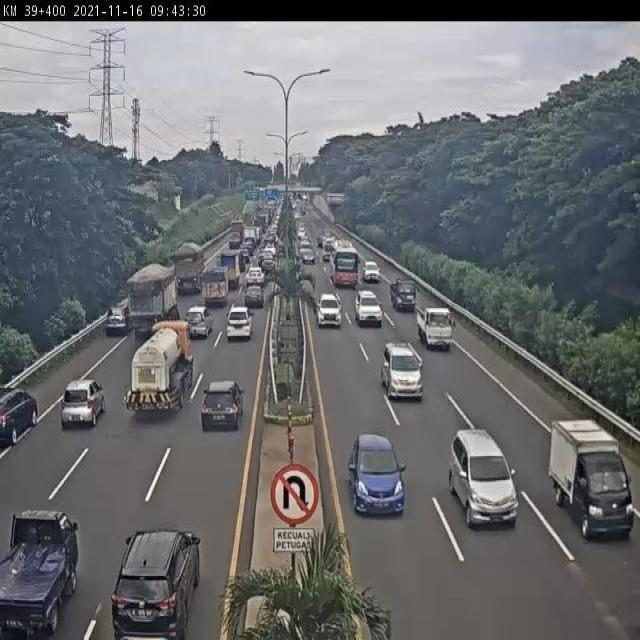Bus: (329, 239, 360, 289)
Car: (110, 528, 202, 640), (448, 427, 520, 526), (348, 433, 408, 518), (382, 342, 424, 400), (0, 386, 39, 447), (59, 379, 107, 426), (199, 380, 244, 429), (183, 304, 213, 340), (315, 293, 343, 330), (355, 290, 383, 326), (226, 306, 254, 340), (106, 306, 131, 338), (243, 284, 265, 309), (245, 266, 268, 288), (361, 260, 382, 283), (301, 248, 316, 266)
Truck: (546, 419, 638, 541), (0, 506, 80, 640), (123, 318, 197, 416), (128, 262, 182, 336), (414, 306, 456, 354), (173, 239, 206, 296), (200, 265, 230, 310), (389, 277, 422, 313), (219, 249, 240, 290), (322, 235, 336, 261), (227, 230, 242, 250), (243, 224, 257, 240), (231, 219, 244, 232)
